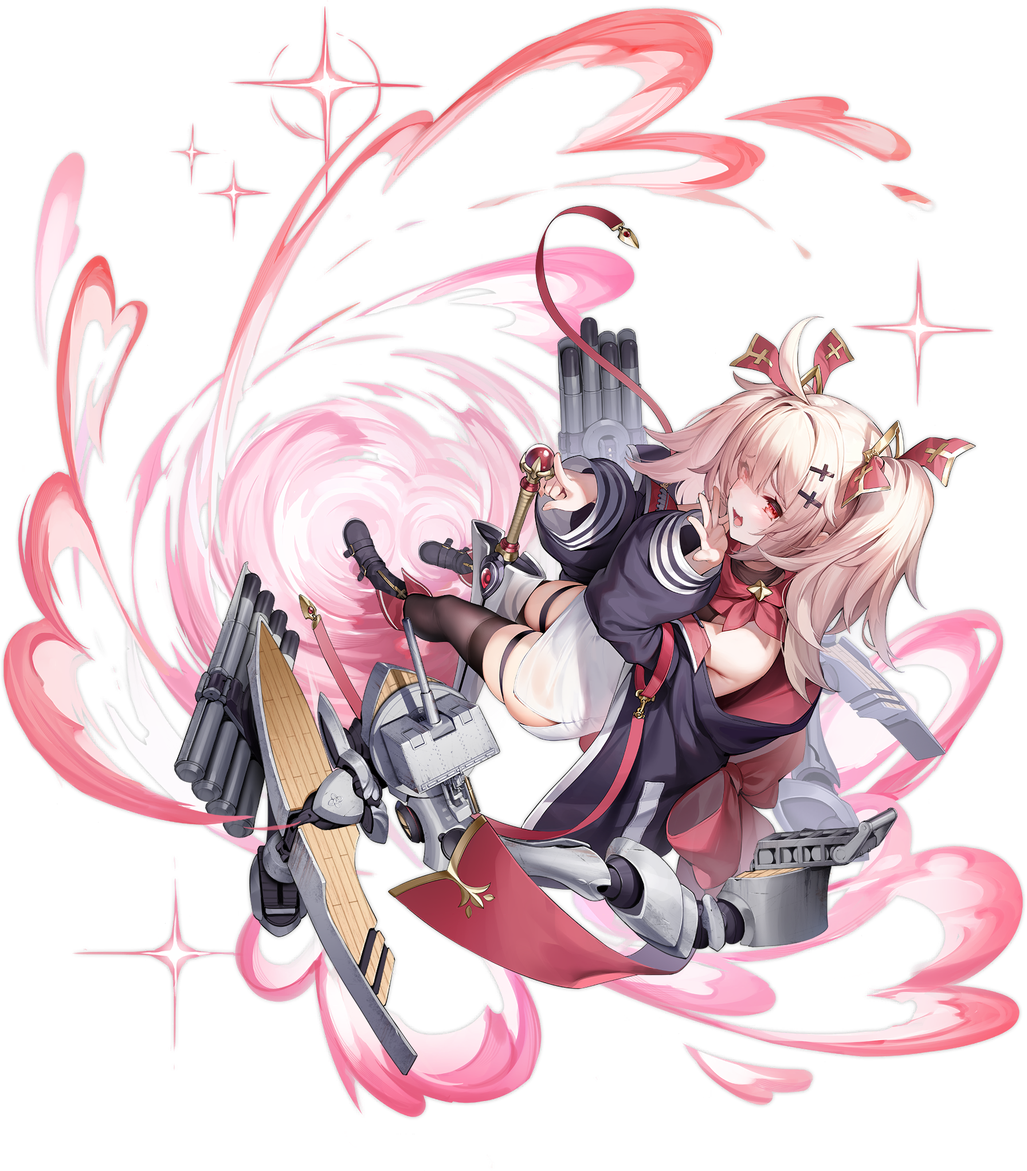person: (42, 25, 998, 1168)
